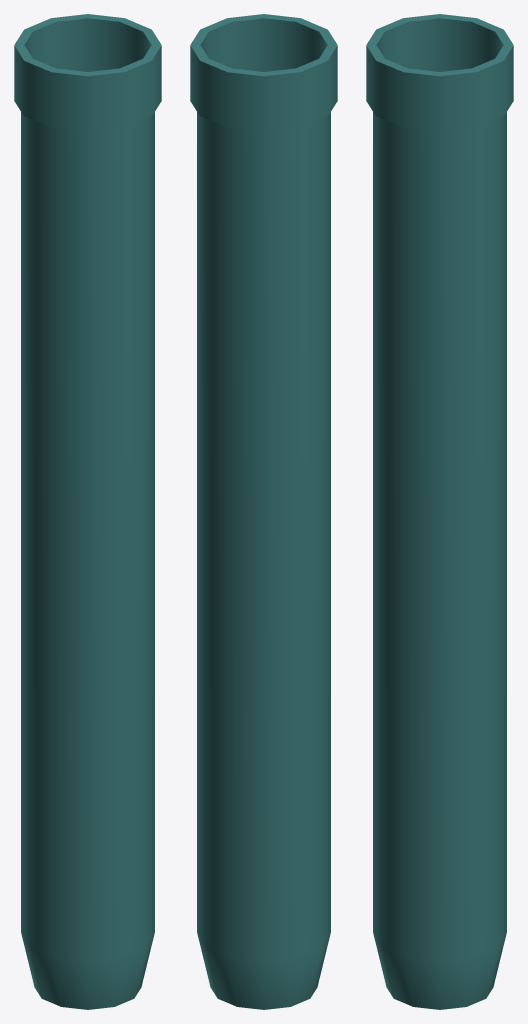
Rendered from Blub4.fbx.
The picture shows the model from 3 angles, left to right: view 1: azimuth 30°, elevation 25°; view 2: azimuth 150°, elevation 25°; view 3: azimuth 270°, elevation 25°; orthographic projection.
Parts seen in each view (by area): view 1: polySurface165; view 2: polySurface165; view 3: polySurface165.
Part boxes in pixels (<box>): polySurface165: <box>14,14,161,1009</box>; polySurface165: <box>190,14,337,1009</box>; polySurface165: <box>366,14,513,1009</box>.
Size of the model in its own units: 1.99 by 1.99 by 14.
